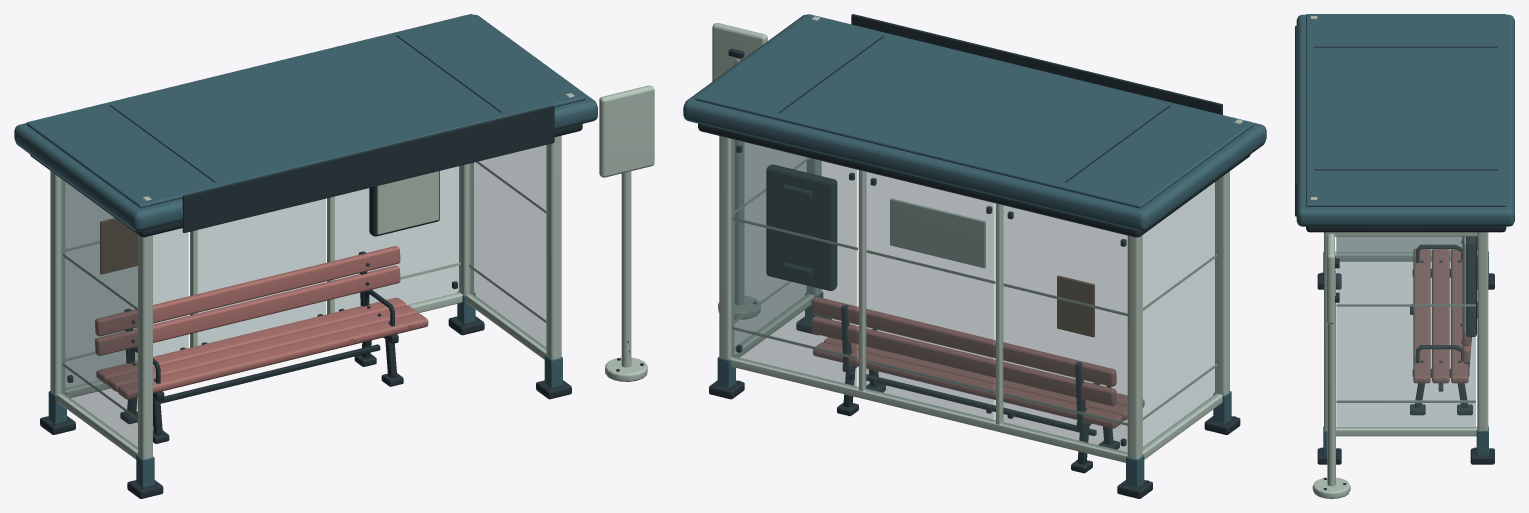
Rendered from Nightline_Bus_Stop.fbx.
3 views of the same model, side by side, from view 1: azimuth 30°, elevation 25°; view 2: azimuth 150°, elevation 25°; view 3: azimuth 270°, elevation 25° (orthographic). The views are drawn at different scales.
Visible parts, largest first — view 1: Shelter__Canopy_Teal, Shelter__Glass_Smoke, Bench__Bench_Rose, Shelter__Frame_Sage, Shelter__Metal_Charcoal, StopSign__Frame_Sage, Bench__Metal_Charcoal, Timetable__Frame_Sage, NoticeBoard__Wear_Oxide; view 2: Shelter__Glass_Smoke, Shelter__Canopy_Teal, Shelter__Frame_Sage, Bench__Bench_Rose, Shelter__Metal_Charcoal, Timetable__Metal_Charcoal, RouteMap__Frame_Sage, Bench__Metal_Charcoal, StopSign__Frame_Sage, NoticeBoard__Wear_Oxide; view 3: Shelter__Canopy_Teal, Shelter__Glass_Smoke, Shelter__Frame_Sage, Bench__Bench_Rose, Shelter__Metal_Charcoal, StopSign__Frame_Sage, Bench__Metal_Charcoal, Timetable__Metal_Charcoal.
Part boxes in pixels (x1,y1,x2,y2): Shelter__Canopy_Teal: [14, 14, 597, 487]; Shelter__Glass_Smoke: [61, 145, 545, 450]; Bench__Bench_Rose: [95, 246, 428, 399]; Shelter__Frame_Sage: [50, 93, 574, 459]; Shelter__Metal_Charcoal: [30, 35, 582, 498]; StopSign__Frame_Sage: [599, 85, 654, 381]; Bench__Metal_Charcoal: [120, 251, 403, 443]; Timetable__Frame_Sage: [377, 171, 439, 234]; NoticeBoard__Wear_Oxide: [100, 218, 137, 274]; Shelter__Glass_Smoke: [731, 139, 1218, 454]; Shelter__Canopy_Teal: [683, 14, 1266, 487]; Shelter__Frame_Sage: [719, 16, 1243, 462]; Bench__Bench_Rose: [811, 296, 1144, 428]; Shelter__Metal_Charcoal: [698, 14, 1250, 498]; Timetable__Metal_Charcoal: [766, 164, 837, 290]; RouteMap__Frame_Sage: [890, 198, 985, 268]; Bench__Metal_Charcoal: [837, 305, 1119, 473]; StopSign__Frame_Sage: [712, 23, 767, 319]; NoticeBoard__Wear_Oxide: [1057, 275, 1094, 337]; Shelter__Canopy_Teal: [1296, 14, 1514, 455]; Shelter__Glass_Smoke: [1336, 236, 1475, 427]; Shelter__Frame_Sage: [1310, 16, 1488, 436]; Bench__Bench_Rose: [1413, 236, 1470, 383]; Shelter__Metal_Charcoal: [1295, 25, 1506, 464]; StopSign__Frame_Sage: [1312, 234, 1350, 498]; Bench__Metal_Charcoal: [1410, 241, 1472, 415]; Timetable__Metal_Charcoal: [1466, 236, 1477, 336].
Bounding box in the file's own units: 518 × 282 × 209.
